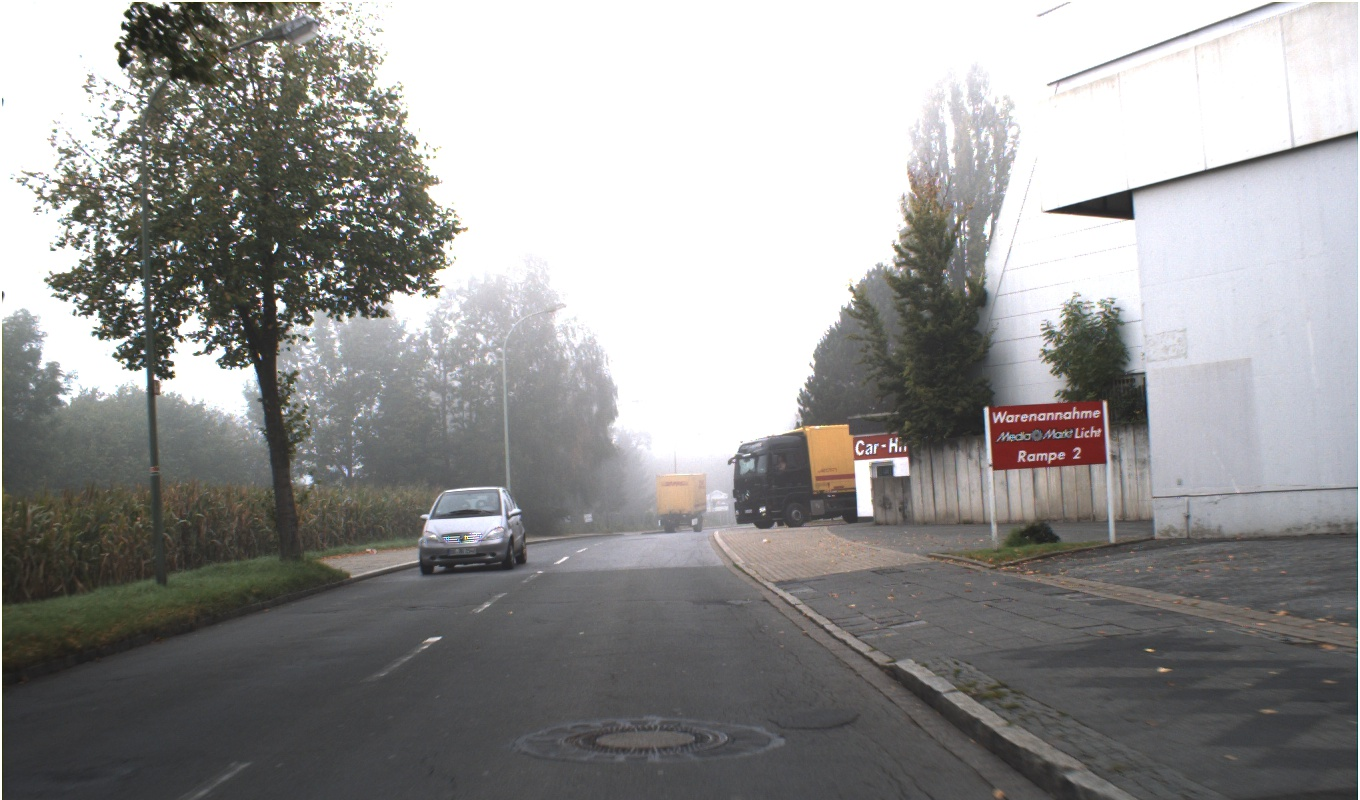car: (417, 484, 546, 613), (726, 431, 866, 530), (644, 471, 710, 536)
